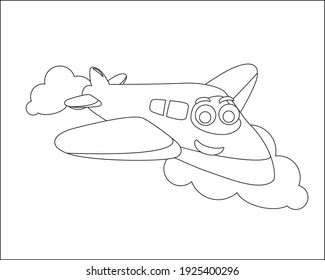airplane: (56, 61, 276, 187)
